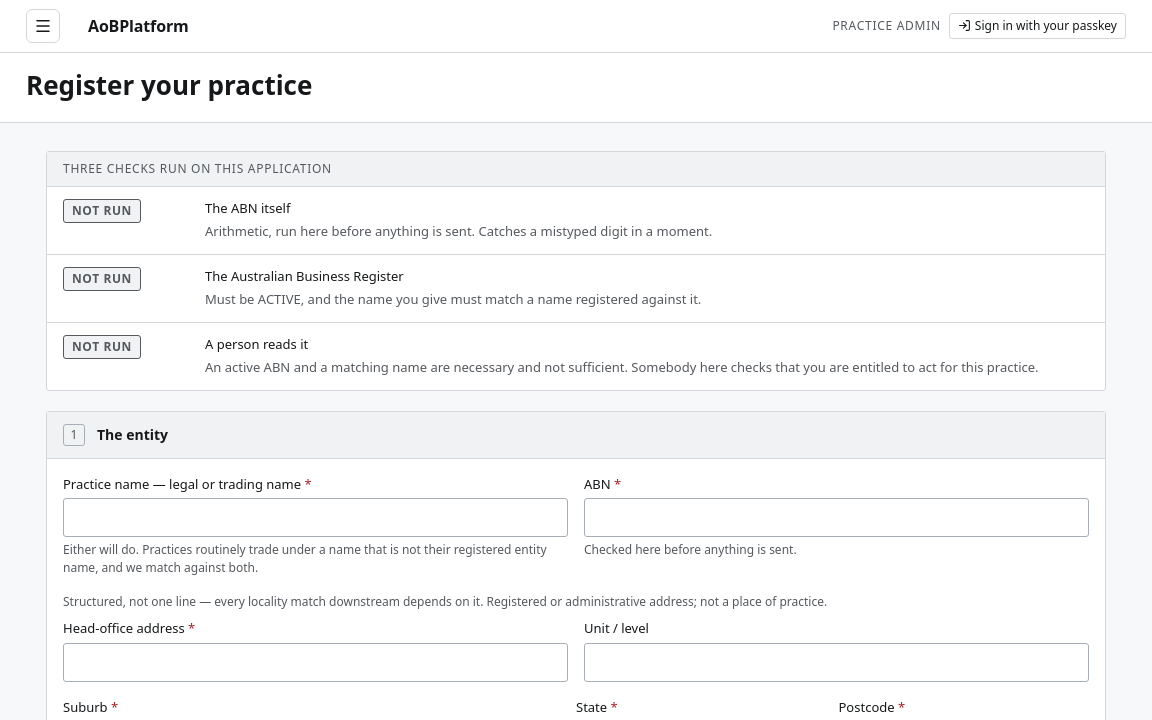
Test case: the ABN preview › leaves the application sendable when the register cannot be reached
This screenshot has width=1152, height=720.
Type "51824753556" into the field with test id "apply-abn".
click(836, 518); type("51824753556")  # box left=584, top=498, right=1089, bottom=537
Wait 500 ms
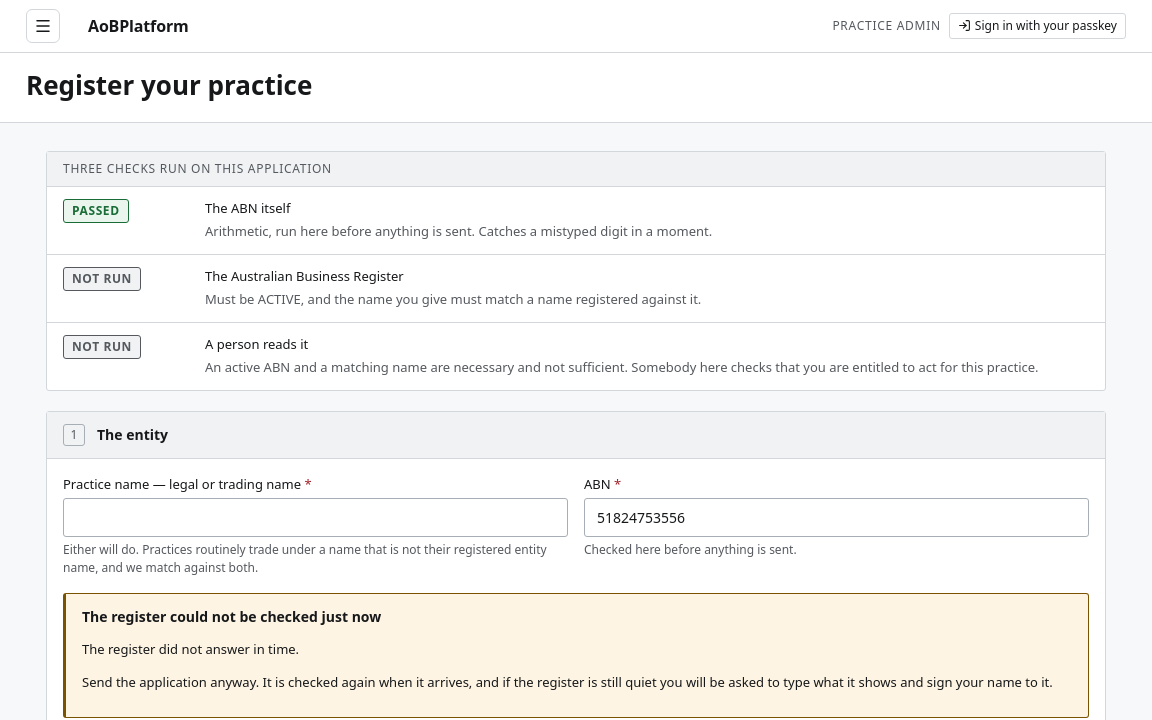
expect the message with test id "apply-abr-unreachable" shows "The register did not answer in time.": met, box left=82, top=640, right=299, bottom=658
